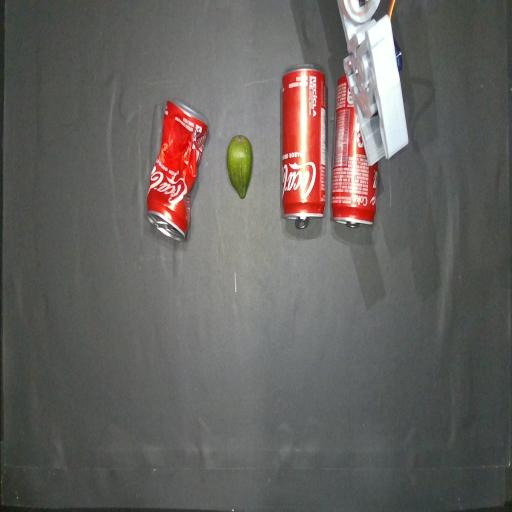higo: (227, 136, 253, 199)
lata: (282, 65, 327, 229), (331, 76, 378, 227)
lata_defectuoso: (147, 100, 208, 241)
